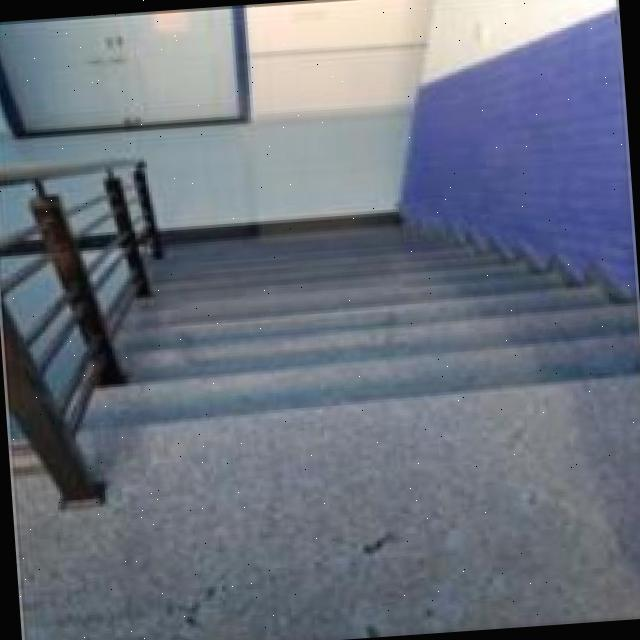stairs: (0, 195, 640, 640)
